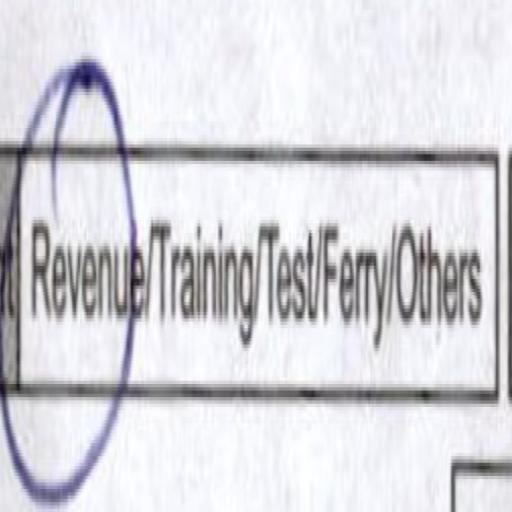check: (20, 48, 138, 494)
